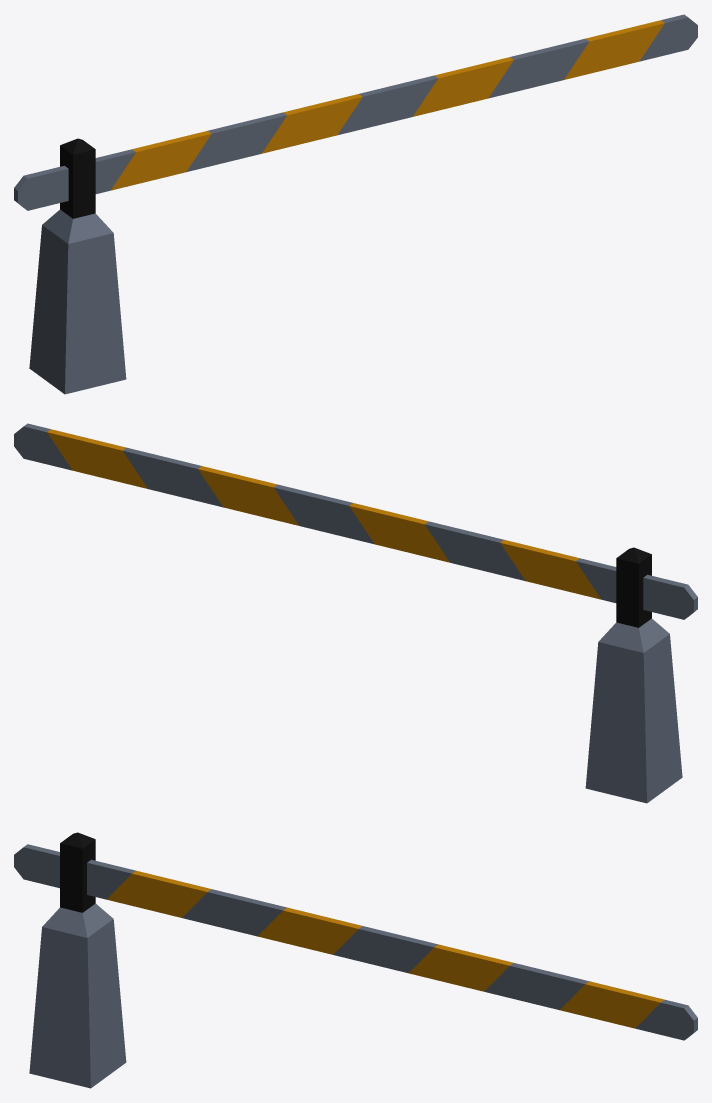
The model's file is Barrier 2 Fractured.fbx.
The picture shows the model from 3 angles, top to bottom: view 1: azimuth 30°, elevation 25°; view 2: azimuth 150°, elevation 25°; view 3: azimuth 330°, elevation 25°; orthographic projection.
Visible parts, largest first — view 1: Barrier_02_Breaking.001, Barrier_02_Breaking.002, Barrier_02_Breaking; view 2: Barrier_02_Breaking.001, Barrier_02_Breaking.002, Barrier_02_Breaking; view 3: Barrier_02_Breaking.001, Barrier_02_Breaking.002, Barrier_02_Breaking.
Boxes of the visible parts, x1=… form: Barrier_02_Breaking.001: x1=14, y1=103, x2=324, y2=300; Barrier_02_Breaking.002: x1=298, y1=14, x2=697, y2=144; Barrier_02_Breaking: x1=29, y1=267, x2=126, y2=394; Barrier_02_Breaking.001: x1=387, y1=512, x2=697, y2=709; Barrier_02_Breaking.002: x1=14, y1=423, x2=413, y2=553; Barrier_02_Breaking: x1=585, y1=676, x2=682, y2=803; Barrier_02_Breaking.001: x1=14, y1=832, x2=323, y2=1006; Barrier_02_Breaking.002: x1=294, y1=916, x2=697, y2=1040; Barrier_02_Breaking: x1=29, y1=970, x2=126, y2=1088.
Size of the model in its own units: 265 by 87.6 by 23.93.
